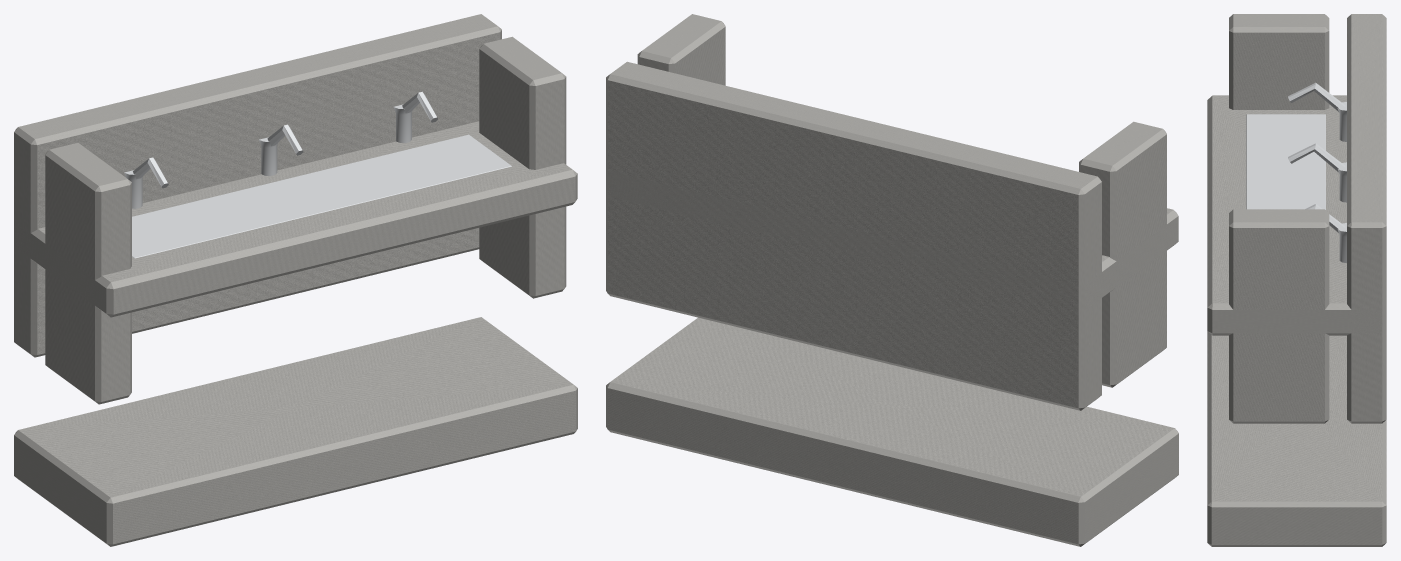
File: japanese-school-and-city-street-water-fountain-41607d12.glb
The picture shows the model from 3 angles, left to right: view 1: azimuth 30°, elevation 25°; view 2: azimuth 150°, elevation 25°; view 3: azimuth 270°, elevation 25°; orthographic projection. The views are drawn at different scales.
Parts seen in each view (by area): view 1: water-fountain; view 2: water-fountain; view 3: water-fountain.
Boxes of the visible parts, x1,y1,x2,y2 form: water-fountain: [14, 14, 577, 546]; water-fountain: [606, 14, 1178, 546]; water-fountain: [1207, 14, 1386, 546].
Size of the model in its own units: 1.4 by 1 by 0.4999.
Materials: 2 (1 with a texture image).
